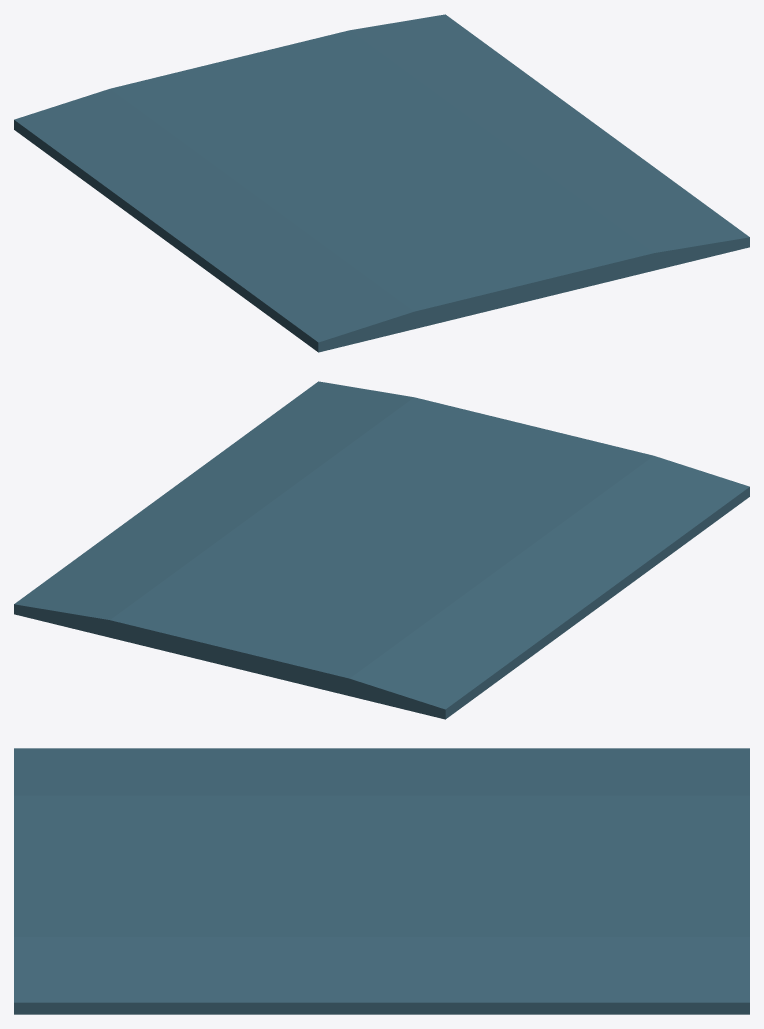
The model's file is metro-threshold-deck.lod1.glb.
3 renders of one model, top to bottom at view 1: azimuth 30°, elevation 25°; view 2: azimuth 150°, elevation 25°; view 3: azimuth 270°, elevation 25°, orthographic. The views are drawn at different scales.
Visible parts, largest first — view 1: module-batch-painted-metal; view 2: module-batch-painted-metal; view 3: module-batch-painted-metal.
Part boxes in pixels (box(x1,y1,x2,y2)): module-batch-painted-metal: box(14, 14, 749, 352); module-batch-painted-metal: box(14, 381, 749, 719); module-batch-painted-metal: box(14, 748, 749, 1014).
Size of the model in its own units: 0.9 by 0.035 by 1.1.
